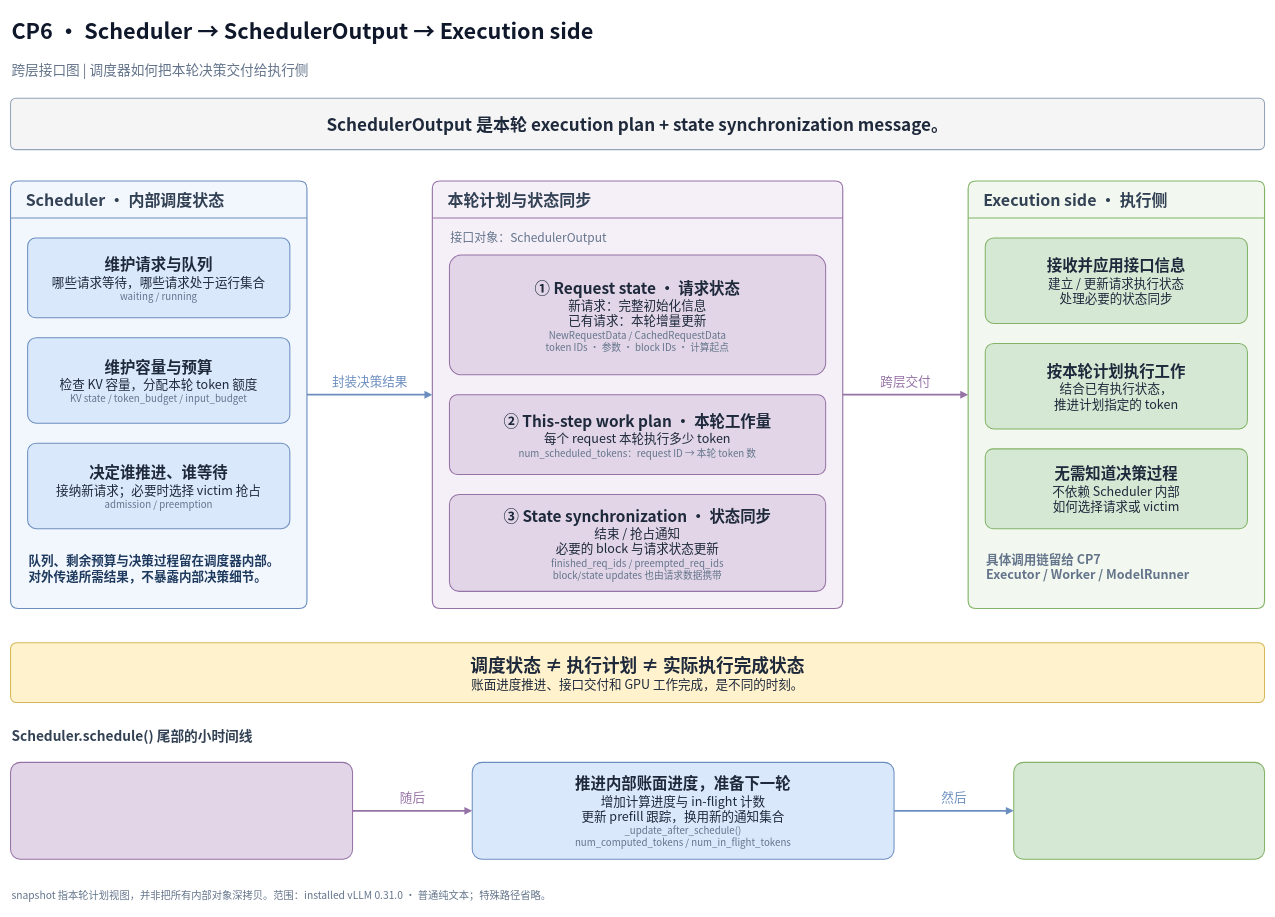
Image size: 1275x917. Some labels were removed from this diagram. Here are the shapes that lost their labels. From the top down, the centre of each, then its label:
[181,811]: 构造本轮计划 snapshot 保留本轮输入起点 封装工作量与同步信息 SchedulerOutput(...)
[1139,811]: 返回本轮接口对象 将已构造的计划交付出去 return scheduler_output
